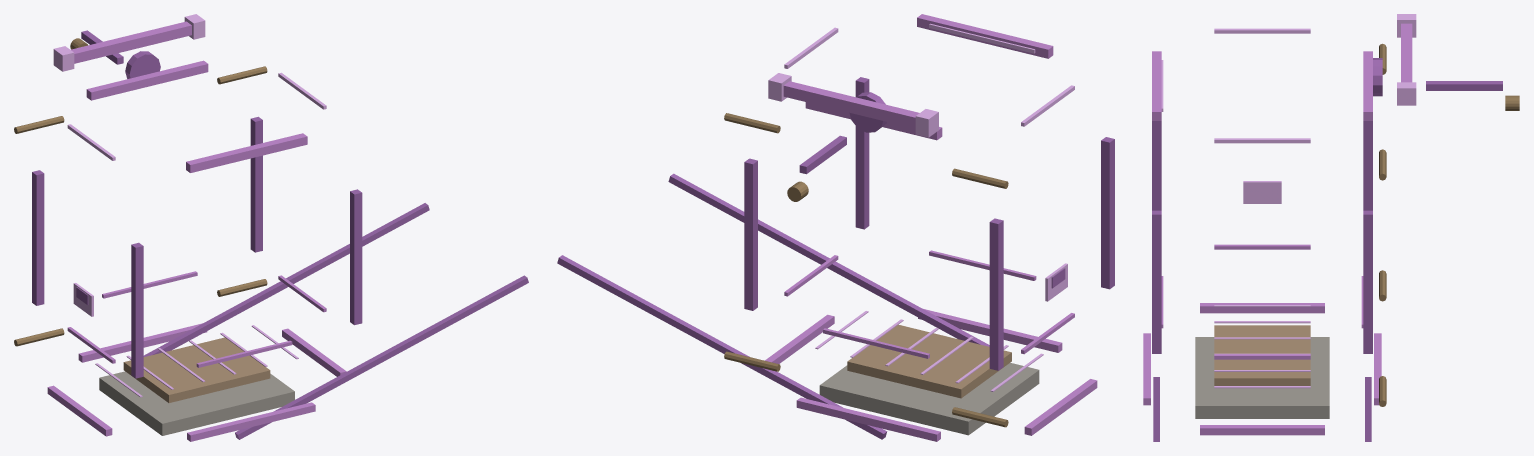
File: freight_elevator_purple_brown.glb
3 renders of one model, left to right at view 1: azimuth 30°, elevation 25°; view 2: azimuth 150°, elevation 25°; view 3: azimuth 270°, elevation 25°, orthographic. The views are drawn at different scales.
Parts seen in each view (by area): view 1: Base_Plate, Floor_Plate, Trolley_Beam, Post_-1.4_-1.1, Post_-1.4_1.1, Post_1.4_-1.1, Header_X, Header_Y, Post_1.4_1.1, Base_Edge_Y-1, Brace_-1_3_-1, Brace_-1_1_-1 (+11 smaller); view 2: Base_Plate, Floor_Plate, Trolley_Beam, Post_-1.4_1.1, Post_1.4_1.1, Post_-1.4_-1.1, Post_1.4_-1.1, Base_Edge_Y1, Header_Y, Base_Edge_Y-1, Brace_1_3_-1, Brace_-1_1_-1 (+15 smaller); view 3: Base_Plate, Floor_Plate, Post_1.4_-1.1, Post_1.4_1.1, Base_Edge_X1, Base_Edge_X-1, Post_-1.4_-1.1, Post_-1.4_1.1, Frac_Panel, Jib_Arm, Trolley_Beam, Header_X (+9 smaller).
Boxes of the visible parts, box(x1,y1,x2,y2) form: Base_Plate: box(99, 371, 294, 435); Floor_Plate: box(123, 337, 270, 402); Trolley_Beam: box(70, 21, 191, 63); Post_-1.4_-1.1: box(131, 242, 143, 378); Post_-1.4_1.1: box(32, 170, 44, 305); Post_1.4_-1.1: box(350, 189, 362, 325); Header_X: box(86, 60, 208, 100); Header_Y: box(186, 133, 307, 172); Post_1.4_1.1: box(250, 116, 262, 252); Base_Edge_Y-1: box(187, 402, 315, 441); Brace_-1_3_-1: box(415, 275, 528, 341); Brace_-1_1_-1: box(295, 341, 408, 405); Base_Plate: box(819, 362, 1039, 435); Floor_Plate: box(847, 324, 1011, 398); Trolley_Beam: box(783, 81, 919, 128); Post_-1.4_1.1: box(989, 218, 1003, 370); Post_1.4_1.1: box(744, 158, 757, 310); Post_-1.4_-1.1: box(1101, 137, 1114, 289); Post_1.4_-1.1: box(855, 77, 869, 229); Base_Edge_Y1: box(796, 397, 940, 441); Header_Y: box(917, 14, 1053, 58); Base_Edge_Y-1: box(918, 309, 1062, 352); Brace_1_3_-1: box(557, 255, 683, 327); Brace_-1_1_-1: box(803, 247, 928, 320); Base_Plate: box(1195, 337, 1329, 418); Floor_Plate: box(1214, 325, 1310, 385); Post_1.4_-1.1: box(1152, 210, 1161, 353); Post_1.4_1.1: box(1363, 210, 1372, 353); Base_Edge_X1: box(1200, 425, 1324, 435); Base_Edge_X-1: box(1200, 303, 1324, 313); Post_-1.4_-1.1: box(1152, 121, 1161, 210); Post_-1.4_1.1: box(1363, 121, 1372, 210); Frac_Panel: box(1243, 181, 1281, 203); Jib_Arm: box(1426, 81, 1502, 90); Trolley_Beam: box(1401, 23, 1412, 82); Header_X: box(1363, 51, 1372, 120).
Size of the model in its own units: 5.19 by 3.87 by 3.91.
